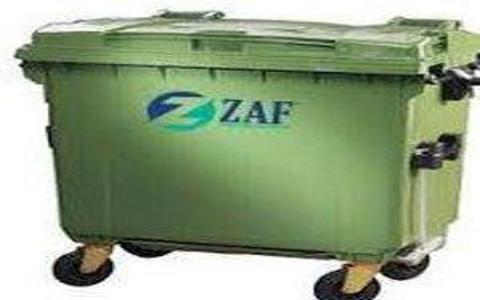Proper garbage: (15, 3, 475, 292)
